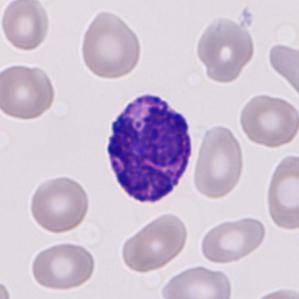Basophil: (99, 87, 199, 211)
Platelets: (237, 6, 255, 28)
RBC: (77, 7, 144, 81), (118, 210, 190, 274), (191, 122, 246, 201), (194, 15, 256, 81), (27, 173, 92, 234), (198, 214, 268, 266), (29, 240, 97, 293), (236, 91, 298, 149), (0, 62, 57, 122), (156, 263, 234, 299), (264, 151, 298, 232), (0, 0, 52, 52), (266, 40, 298, 98), (248, 285, 299, 299), (0, 274, 13, 299)
